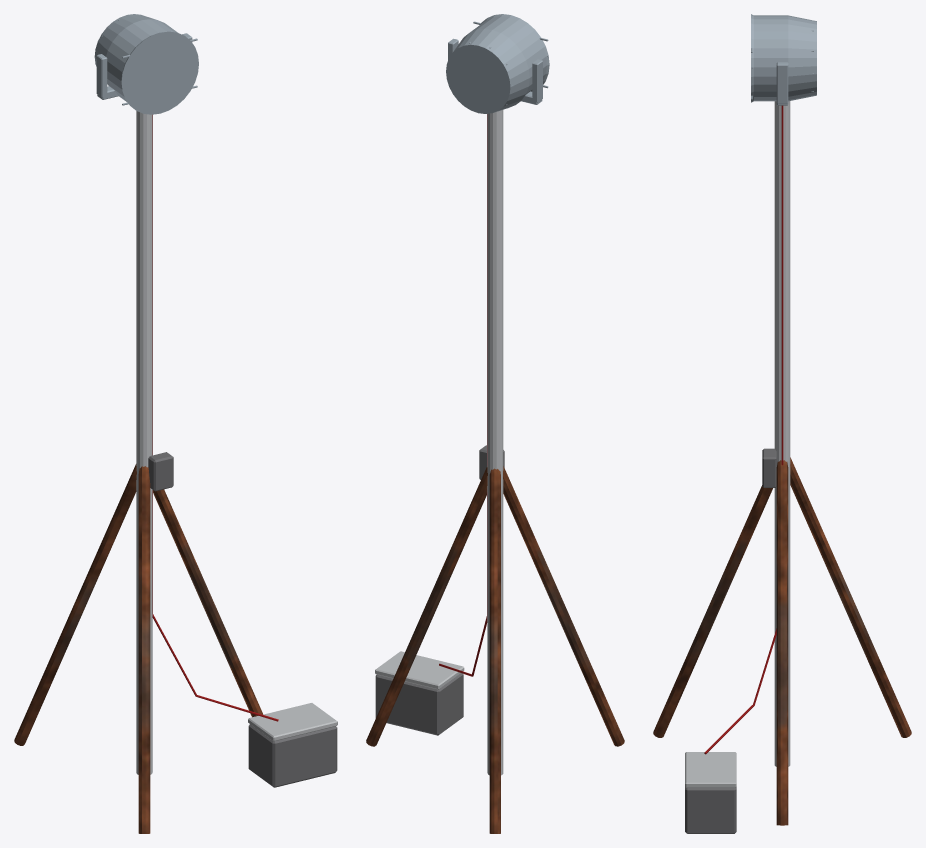
The model's file is holofote.glb.
The picture shows the model from 3 angles, left to right: view 1: azimuth 30°, elevation 25°; view 2: azimuth 150°, elevation 25°; view 3: azimuth 270°, elevation 25°; orthographic projection.
Visible parts, largest first — view 1: holofote_ferrugem, holofote_cabeca_aco_pintado, holofote_aco, holofote_plastico_preto, holofote_plastico_cinza, holofote_fio_vermelho; view 2: holofote_ferrugem, holofote_cabeca_aco_pintado, holofote_aco, holofote_plastico_preto, holofote_plastico_cinza, holofote_fio_vermelho; view 3: holofote_ferrugem, holofote_aco, holofote_cabeca_aco_pintado, holofote_plastico_preto, holofote_plastico_cinza, holofote_fio_vermelho.
Part boxes in pixels (left/top/right/bottom): holofote_ferrugem: left=14, top=464, right=263, bottom=833; holofote_cabeca_aco_pintado: left=94, top=14, right=198, bottom=114; holofote_aco: left=136, top=111, right=152, bottom=774; holofote_plastico_preto: left=148, top=452, right=337, bottom=787; holofote_plastico_cinza: left=248, top=703, right=337, bottom=741; holofote_fio_vermelho: left=152, top=115, right=278, bottom=721; holofote_ferrugem: left=366, top=466, right=624, bottom=833; holofote_cabeca_aco_pintado: left=446, top=14, right=549, bottom=113; holofote_aco: left=487, top=110, right=503, bottom=775; holofote_plastico_preto: left=375, top=445, right=504, bottom=735; holofote_plastico_cinza: left=375, top=651, right=464, bottom=689; holofote_fio_vermelho: left=439, top=114, right=487, bottom=676; holofote_ferrugem: left=653, top=457, right=911, bottom=825; holofote_aco: left=774, top=101, right=790, bottom=766; holofote_cabeca_aco_pintado: left=751, top=14, right=816, bottom=105; holofote_plastico_preto: left=685, top=448, right=776, bottom=833; holofote_plastico_cinza: left=685, top=752, right=736, bottom=787; holofote_fio_vermelho: left=704, top=105, right=783, bottom=754.
Size of the model in its own units: 0.8496 by 2.88 by 0.9023.
Materials: 7 (1 with a texture image).
